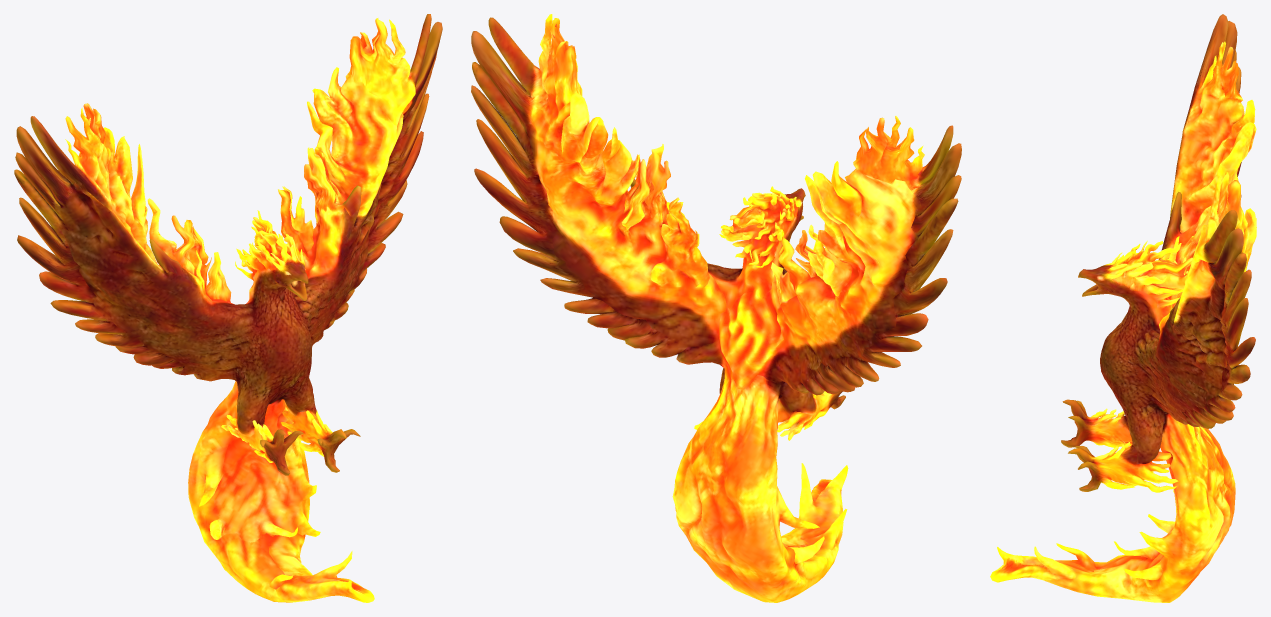
File: MZ4250 - Phoenix.glb
3 renders of one model, left to right at view 1: azimuth 30°, elevation 25°; view 2: azimuth 150°, elevation 25°; view 3: azimuth 270°, elevation 25°, orthographic. The views are drawn at different scales.
Visible parts, largest first — view 1: ORGANIC BASE SPHERE.001; view 2: ORGANIC BASE SPHERE.001; view 3: ORGANIC BASE SPHERE.001.
Part boxes in pixels (x1,y1,x2,y2): ORGANIC BASE SPHERE.001: (14, 14, 442, 602); ORGANIC BASE SPHERE.001: (471, 14, 961, 602); ORGANIC BASE SPHERE.001: (990, 14, 1256, 602).
Size of the model in its own units: 2.95 by 3.23 by 1.58.
1 material, 1 textured.
